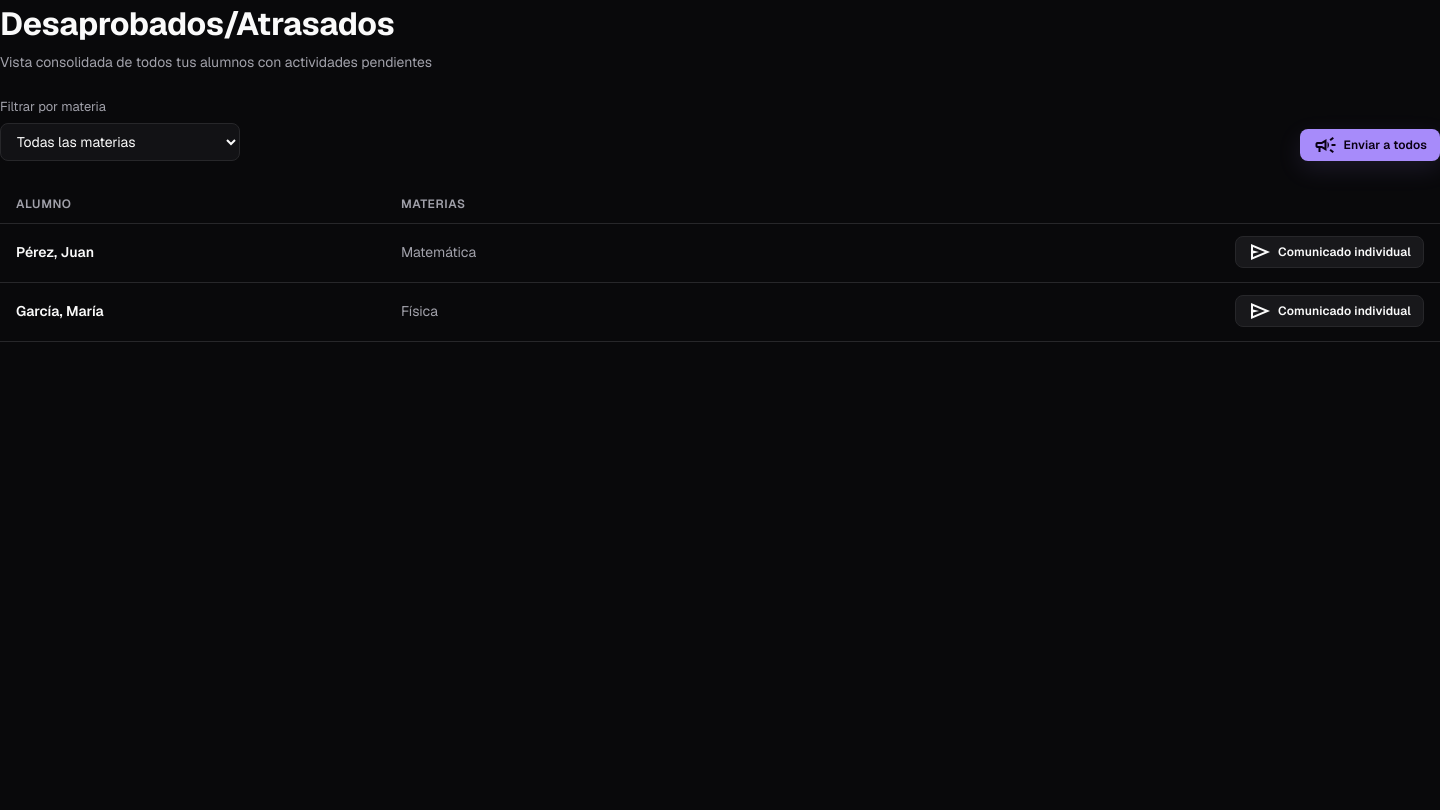
AtrasadosGeneralPage — comunicado buttons › 5.5 shows success total after individual send
Click the button "Comunicado individual" in the row of "Pérez": x=1330, y=252 [1235,236,1424,268]
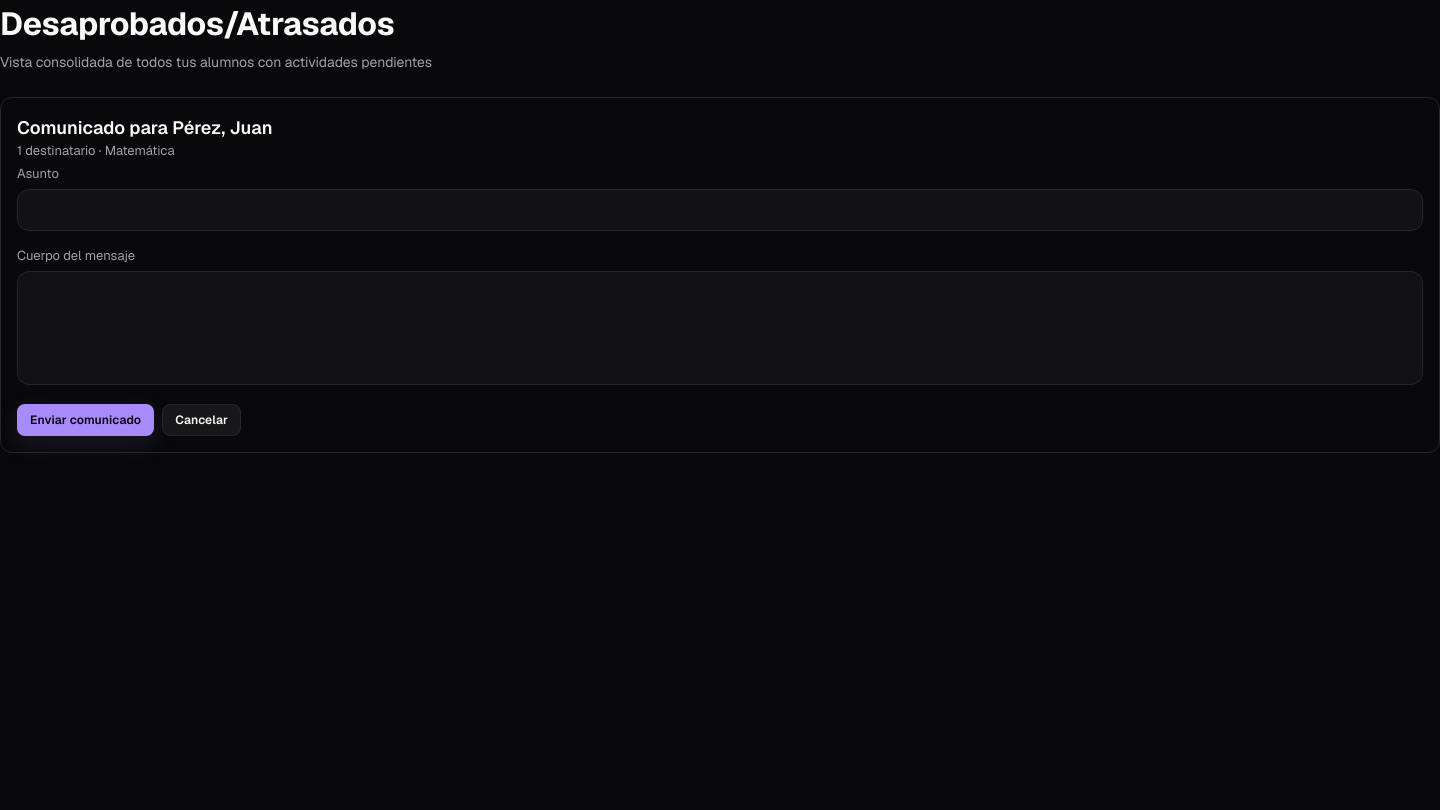
In the field labelled "Asunto": x=720, y=210 [17,188,1423,230], type "Test asunto"
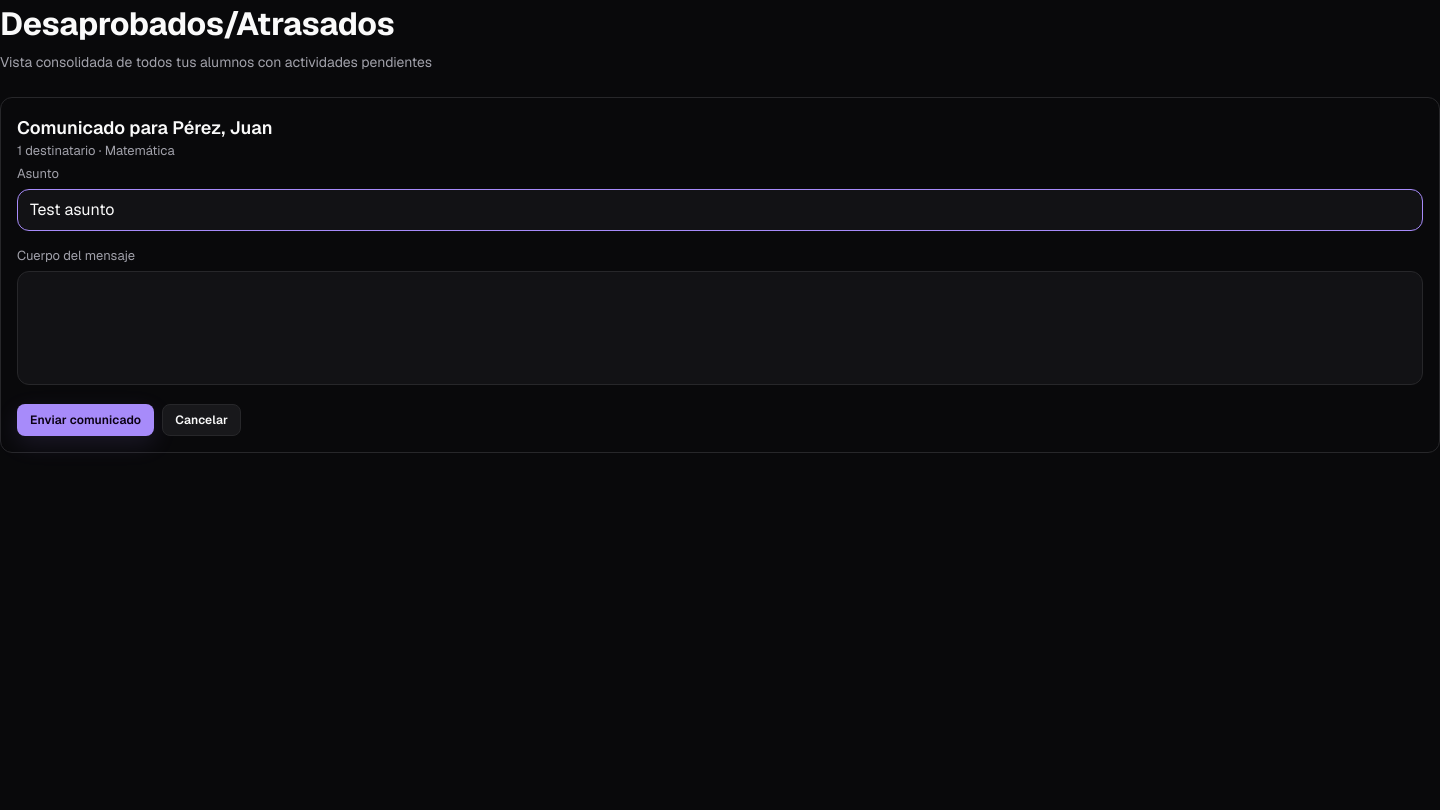
In the text box labelled "Cuerpo del mensaje": x=720, y=328 [17,270,1423,384], type "Test cuerpo"
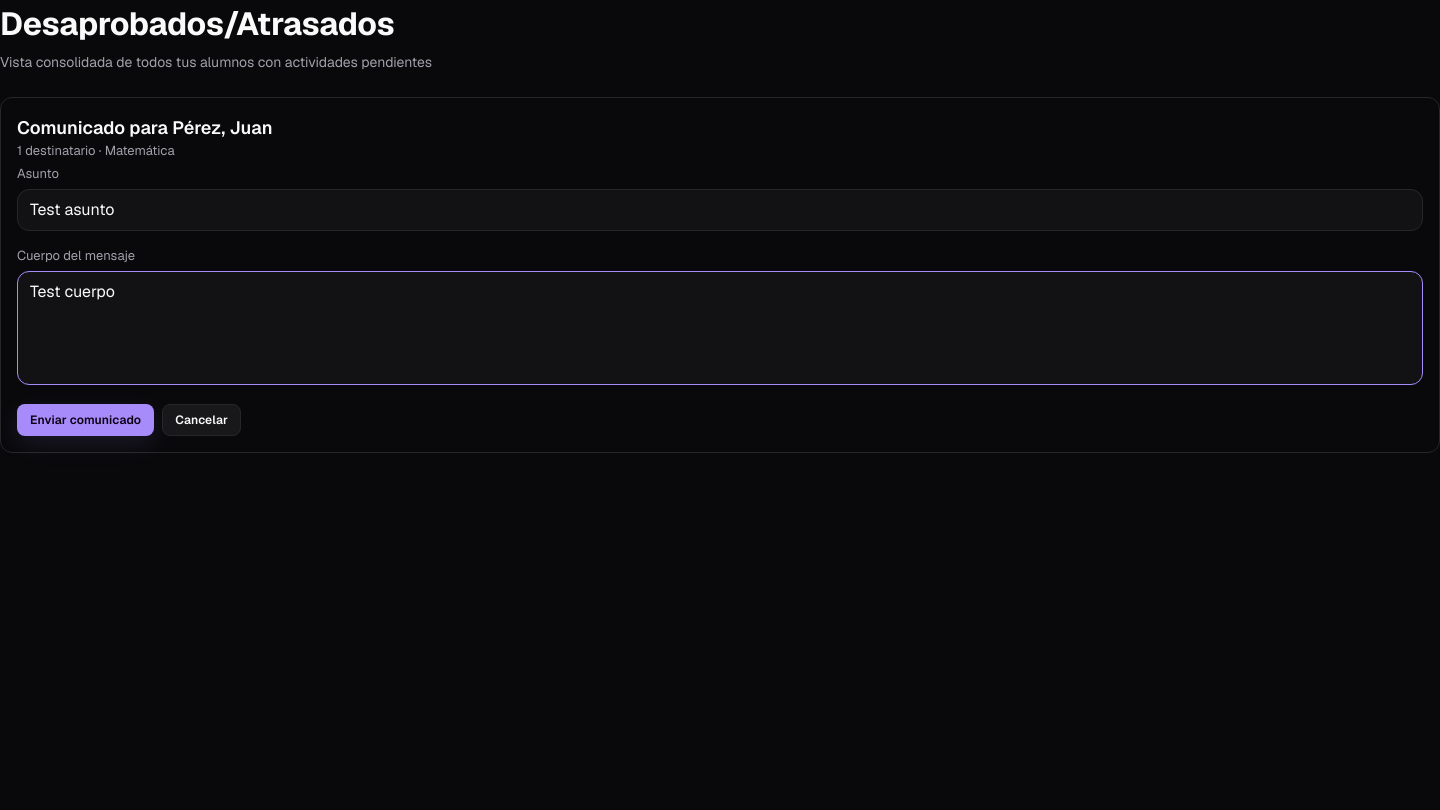
Click the button "Enviar comunicado": x=86, y=420 [17,404,154,436]
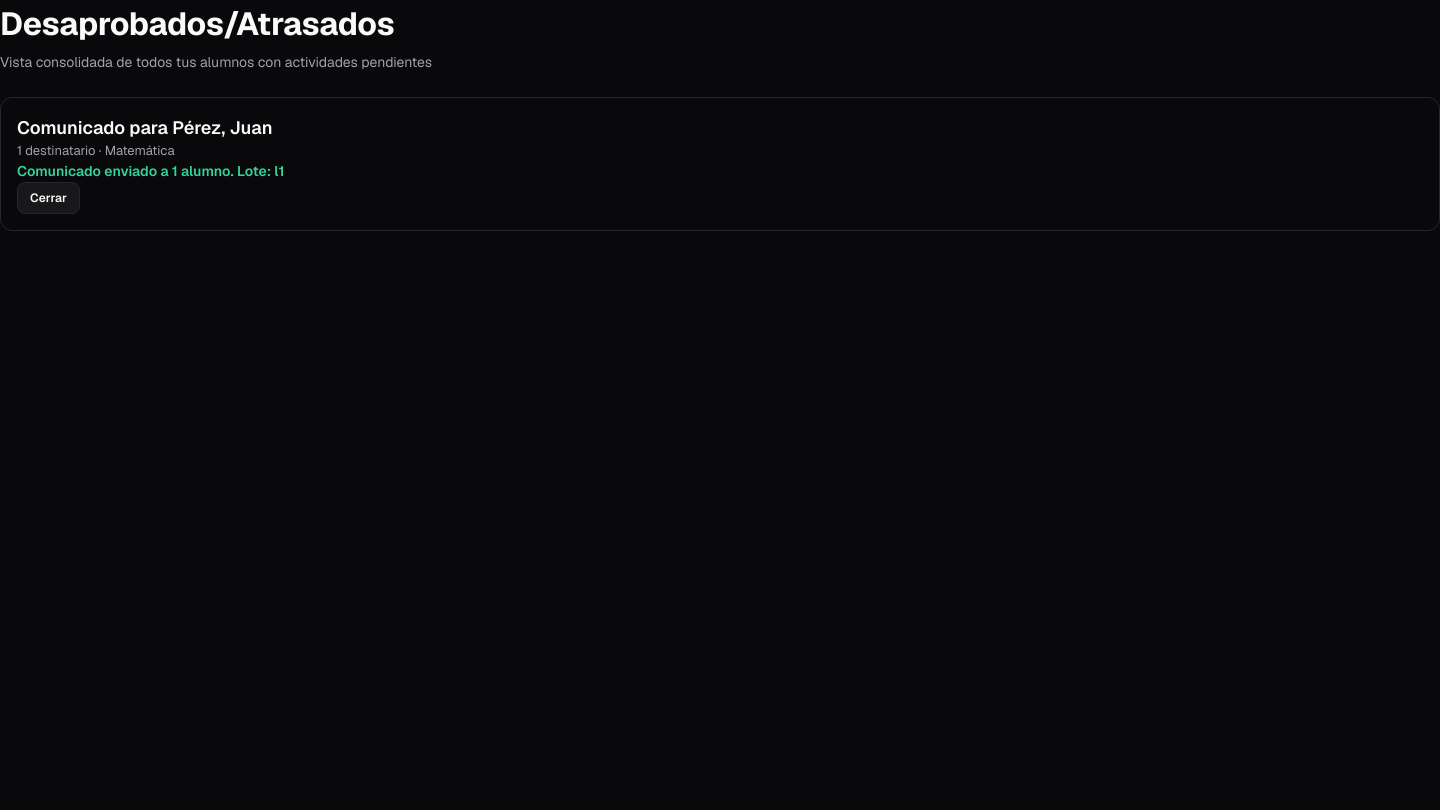
Now the text "Comunicado enviado a 1 alumno. Lote: l1" is shown, box [17,162,284,180]
